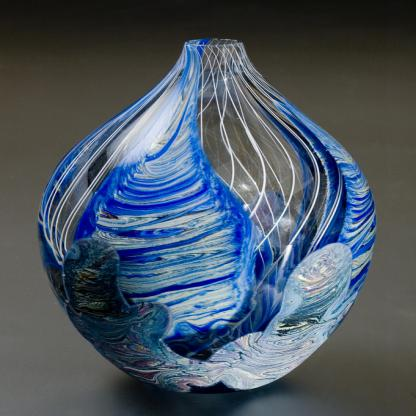vase: (36, 37, 381, 397)
